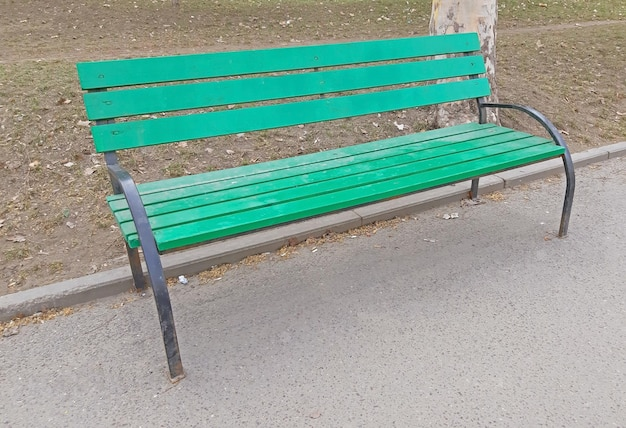Chair: (69, 29, 579, 381)
